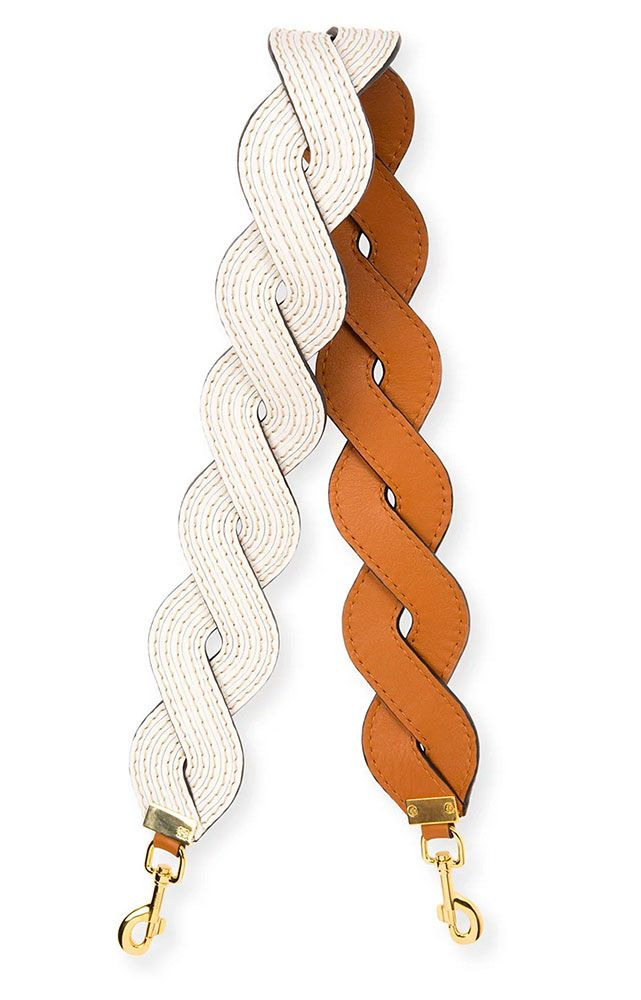cuero: (130, 27, 480, 855)
